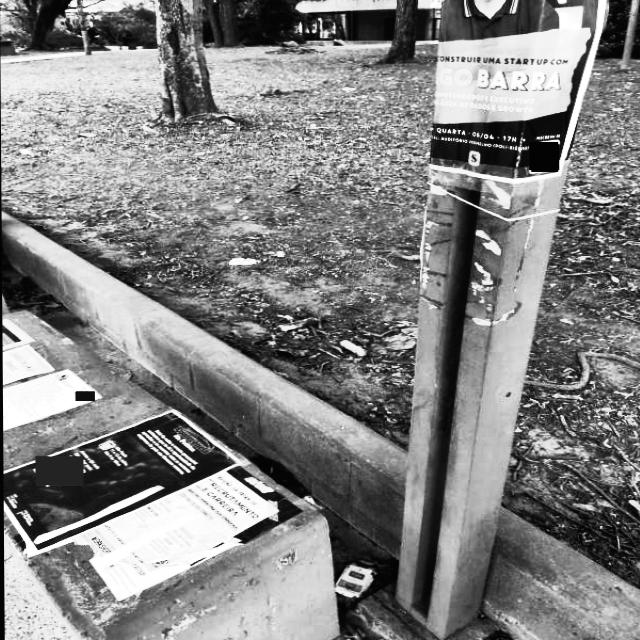qr_code: (35, 456, 83, 486), (530, 143, 559, 171), (74, 392, 94, 401)
